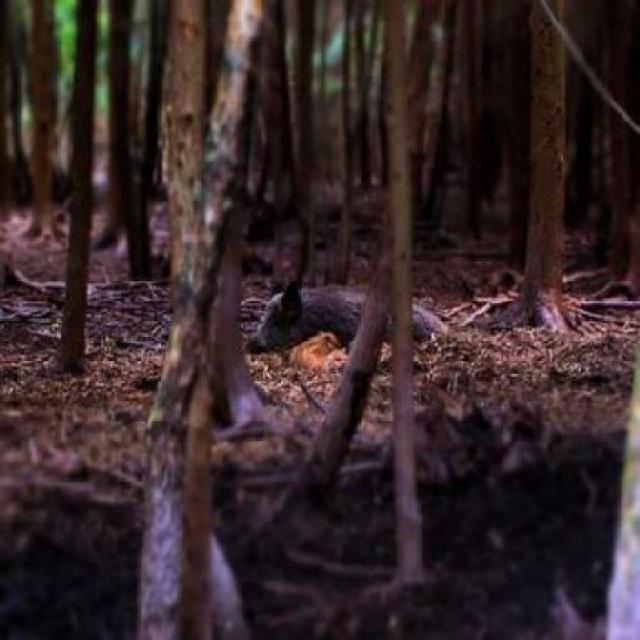pig: (244, 278, 492, 381)
